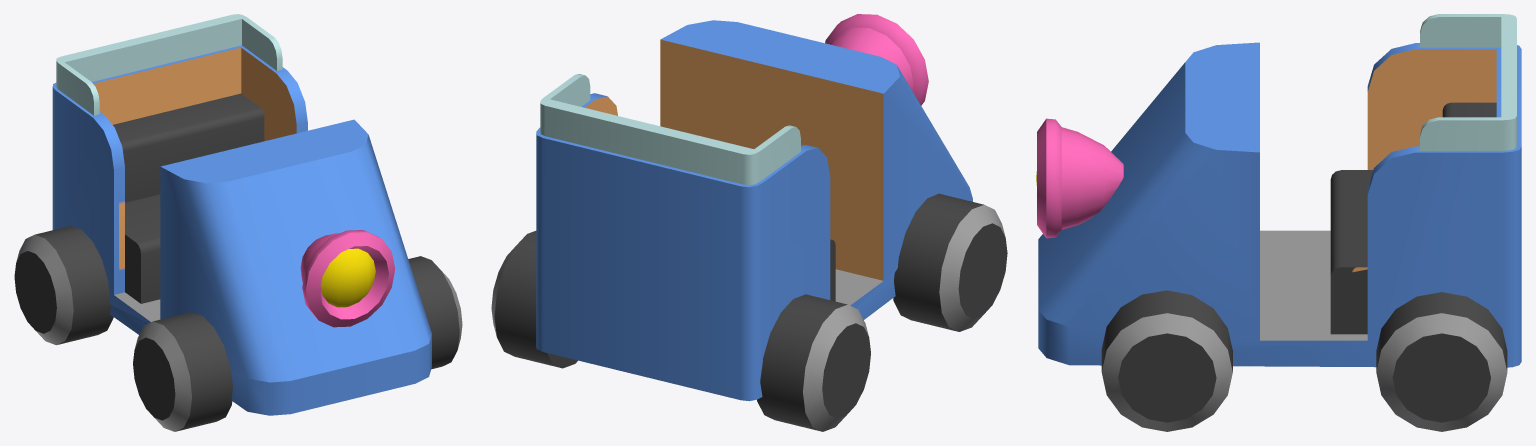
Rendered from Cart_1.fbx.
3 views of the same model, side by side, from view 1: azimuth 30°, elevation 25°; view 2: azimuth 150°, elevation 25°; view 3: azimuth 270°, elevation 25° (orthographic). The views are drawn at different scales.
Parts seen in each view (by area): view 1: Circle; view 2: Circle; view 3: Circle.
Boxes of the visible parts, <box> form: Circle: <box>14,14,462,431</box>; Circle: <box>491,14,1007,431</box>; Circle: <box>1036,14,1521,431</box>.
Bounding box in the file's own units: 200 × 166 × 252.
